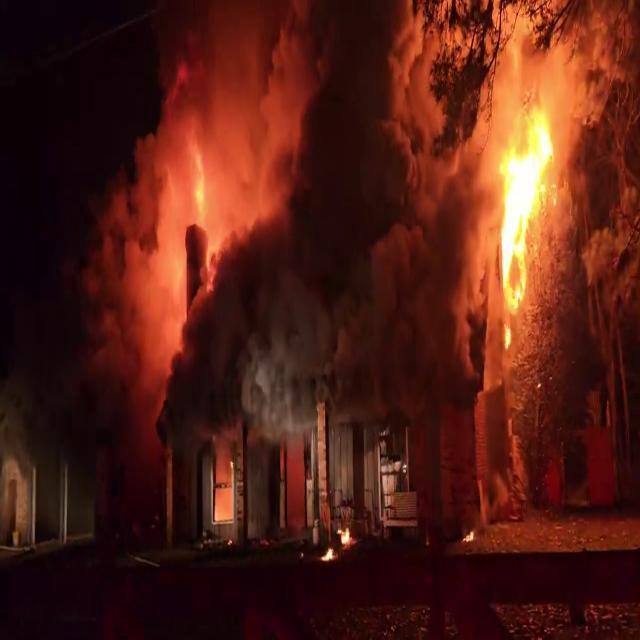Fire: (490, 104, 560, 332)
Smoke: (80, 0, 302, 461), (294, 0, 516, 416)
